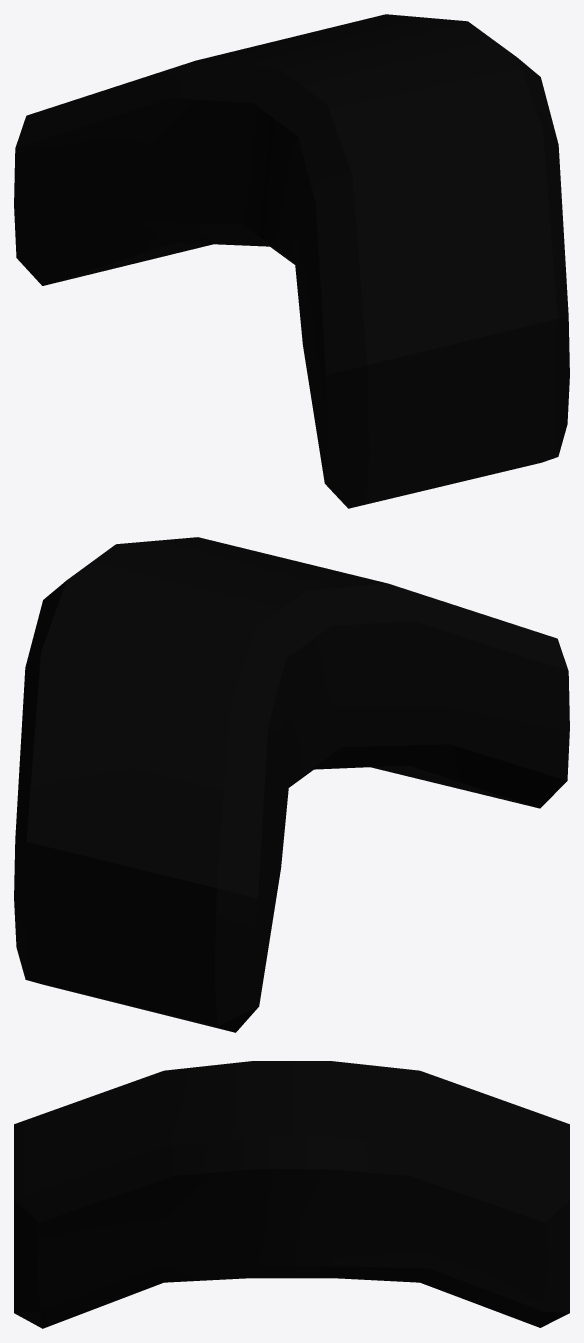
The model's file is avatars_tposing_dmaerldo.glb.
3 renders of one model, top to bottom at view 1: azimuth 30°, elevation 25°; view 2: azimuth 150°, elevation 25°; view 3: azimuth 270°, elevation 25°, orthographic. The views are drawn at different scales.
Parts seen in each view (by area): view 1: mesh_char_115.004; view 2: mesh_char_115.004; view 3: mesh_char_115.004.
Part boxes in pixels (x1,y1,x2,y2): mesh_char_115.004: [14, 14, 569, 508]; mesh_char_115.004: [14, 537, 569, 1032]; mesh_char_115.004: [14, 1061, 569, 1328].
Bounding box in the file's own units: 0.057 × 0.0449 × 0.0969.
1 material, 1 textured.
